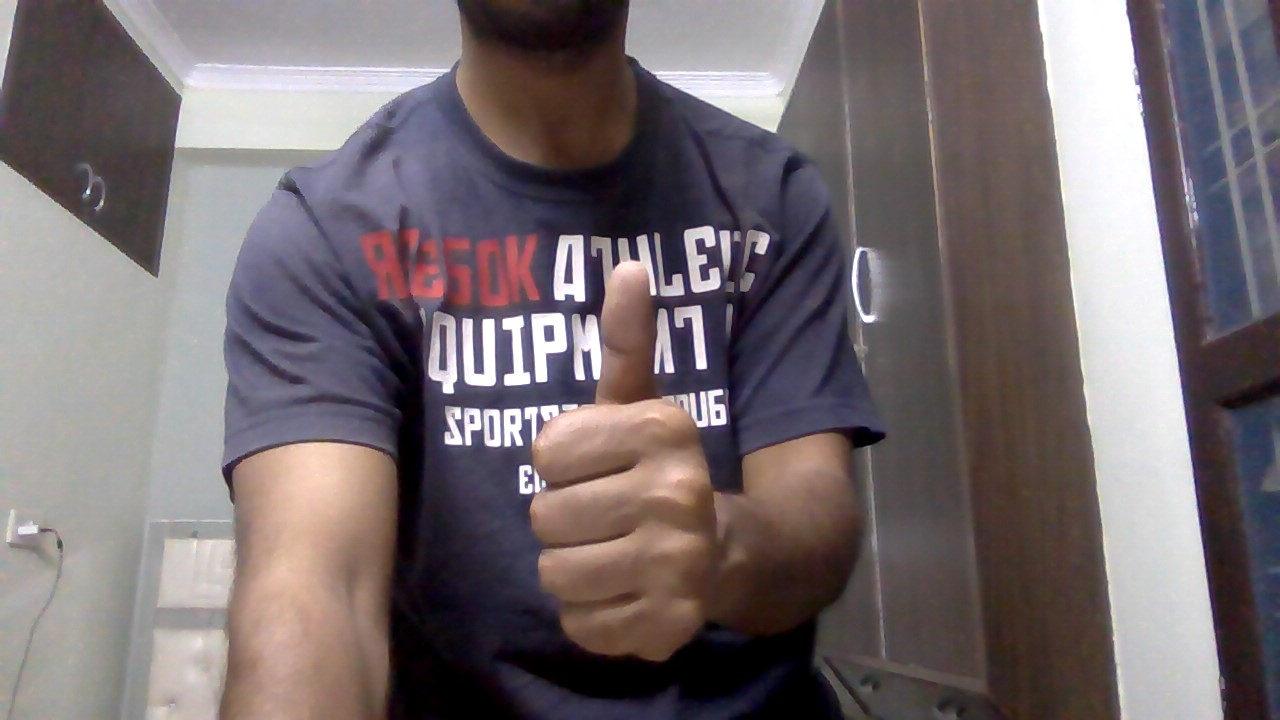Save: (510, 256, 730, 680)
